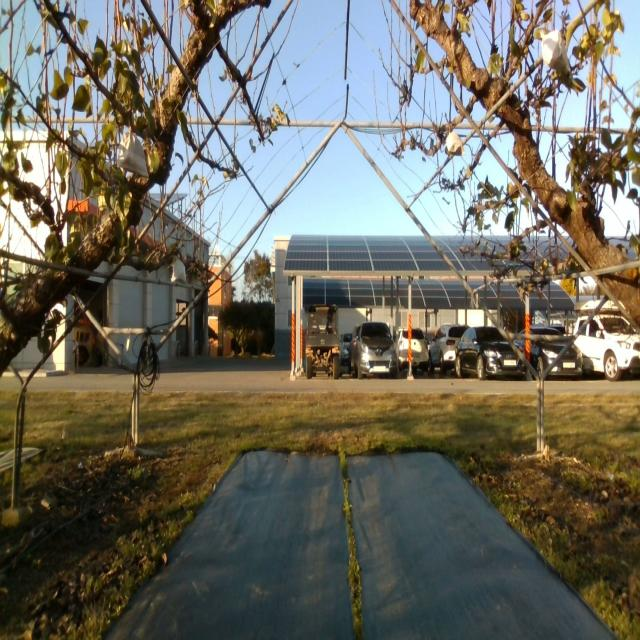pearbags: (116, 127, 149, 179), (540, 28, 570, 72), (444, 132, 466, 156), (171, 253, 187, 283)
